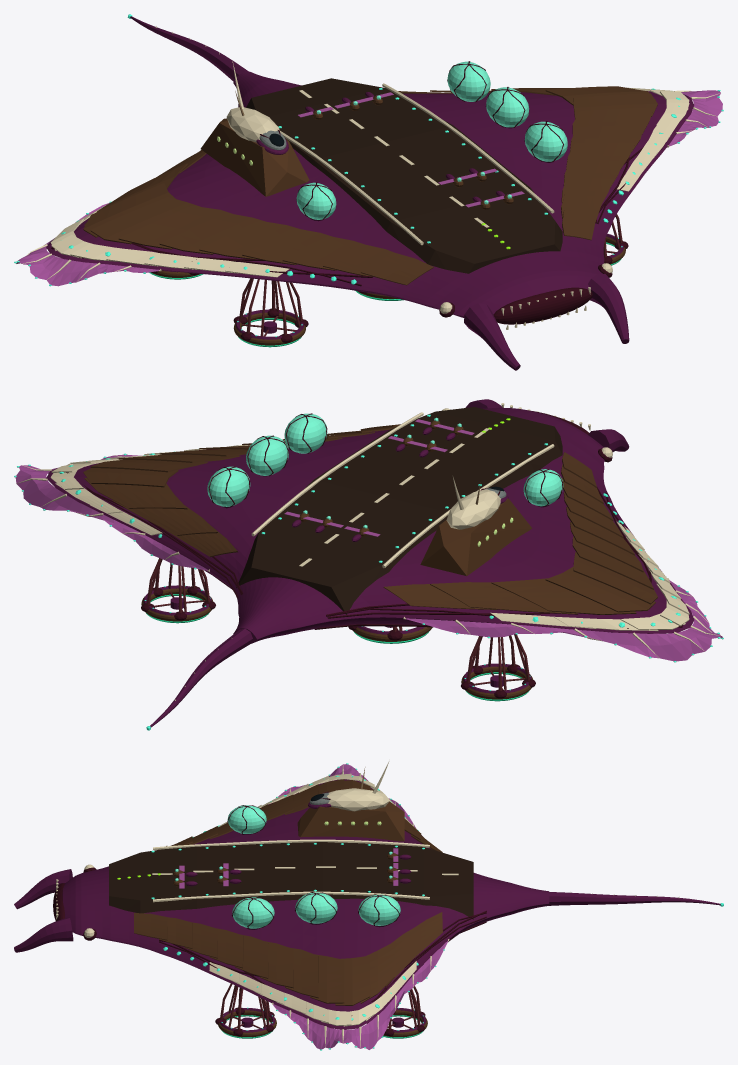
The model's file is carrier.obj.
3 views of the same model, one above another, from view 1: azimuth 30°, elevation 25°; view 2: azimuth 150°, elevation 25°; view 3: azimuth 270°, elevation 25° (orthographic). The views are drawn at different scales.
Visible parts, largest first — view 1: carrier; view 2: carrier; view 3: carrier.
Boxes of the visible parts, bbox=[...] form: carrier: bbox=[14, 14, 723, 370]; carrier: bbox=[14, 399, 723, 730]; carrier: bbox=[14, 761, 723, 1050].
Bounding box in the file's own units: 1028 × 300 × 1100.
Materials: 1 (1 with a texture image).
